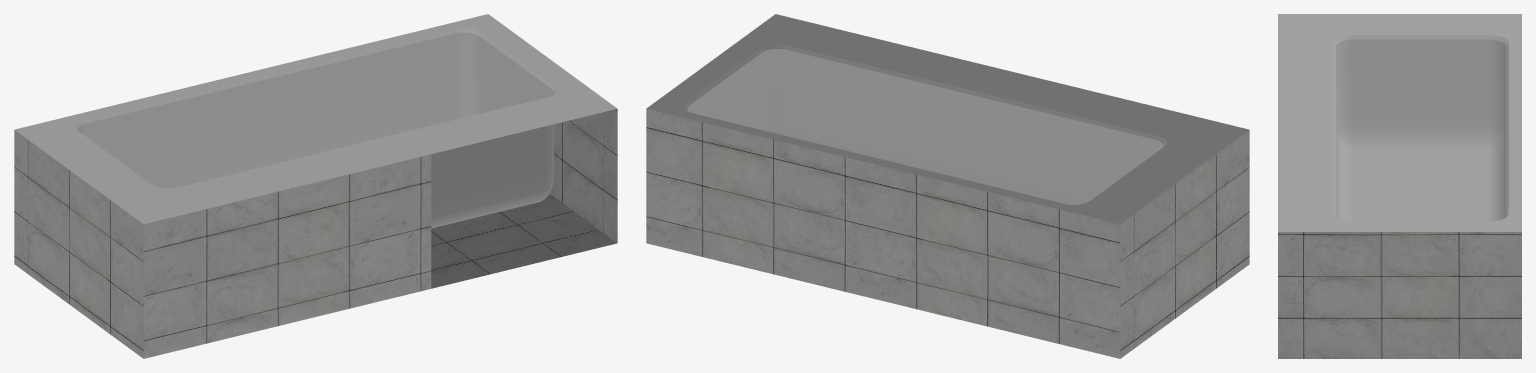
File: Bathtub_d83f72d9.obj
The picture shows the model from 3 angles, left to right: view 1: azimuth 30°, elevation 25°; view 2: azimuth 150°, elevation 25°; view 3: azimuth 270°, elevation 25°; orthographic projection. The views are drawn at different scales.
Parts seen in each view (by area): view 1: BathtubMesh_f9dbac86; view 2: BathtubMesh_f9dbac86; view 3: BathtubMesh_f9dbac86.
Boxes of the visible parts, bbox=[...] form: BathtubMesh_f9dbac86: bbox=[14, 14, 617, 358]; BathtubMesh_f9dbac86: bbox=[646, 14, 1249, 358]; BathtubMesh_f9dbac86: bbox=[1278, 14, 1521, 358].
Size of the model in its own units: 2.21 by 0.6013 by 1.05.
